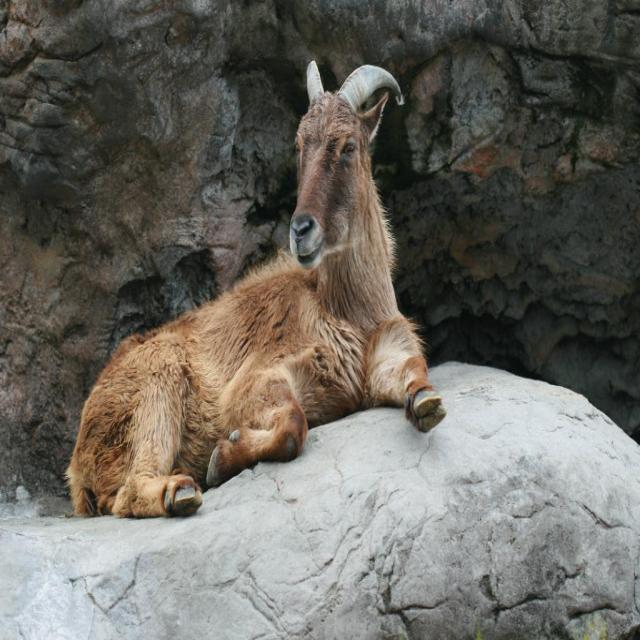Goat: (61, 61, 447, 518)
